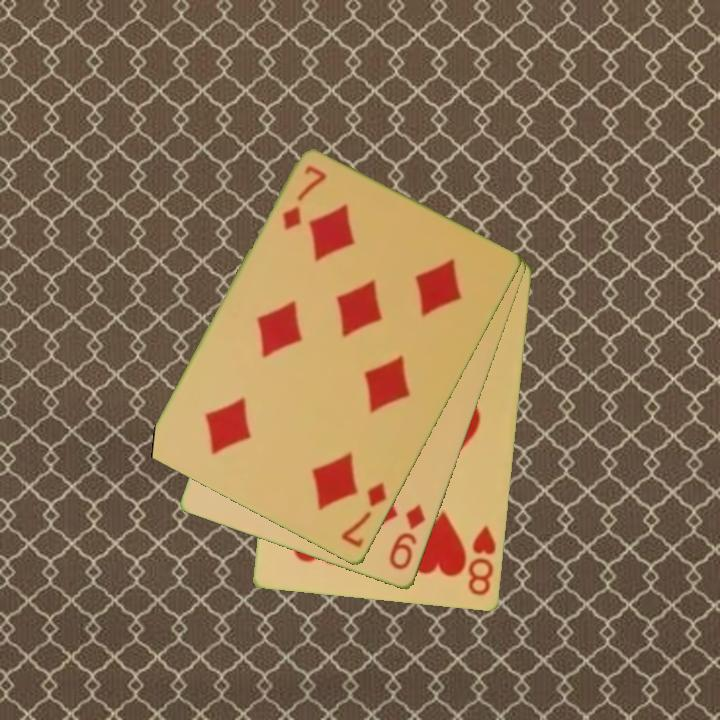7d: (337, 479, 390, 551), (279, 162, 330, 234)
8h: (465, 522, 500, 599)
9d: (385, 501, 429, 574)
